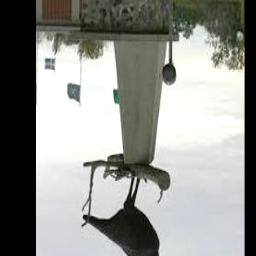Crow: (82, 170, 174, 256)
